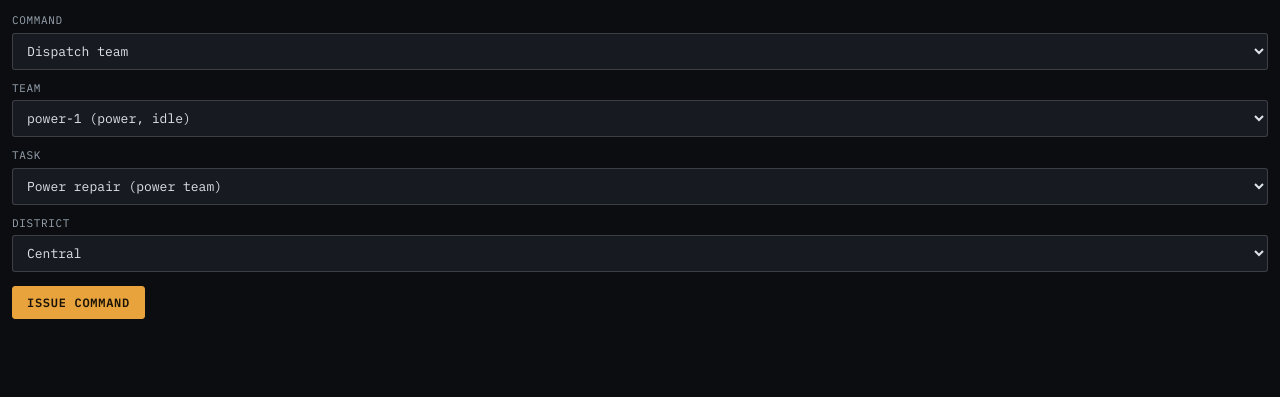
CommandComposer › blocks submission and shows a local error when advisory text is empty
This screenshot has width=1280, height=397.
Select "Issue public advisory" in the dropdown labelled "Command" at (640, 51), box 12,32 -> 1268,70
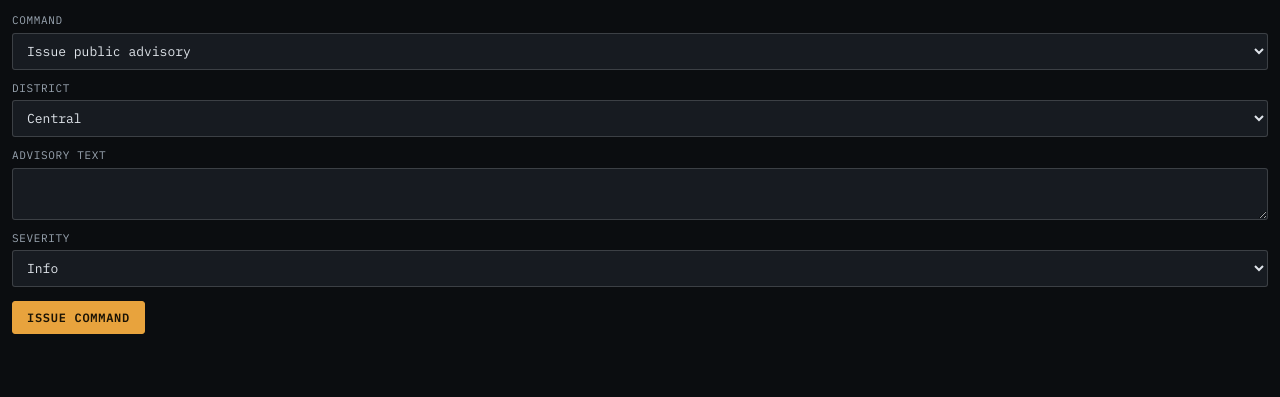
Click the button "Issue command".
click(78, 318)  # box 12,301 -> 145,334
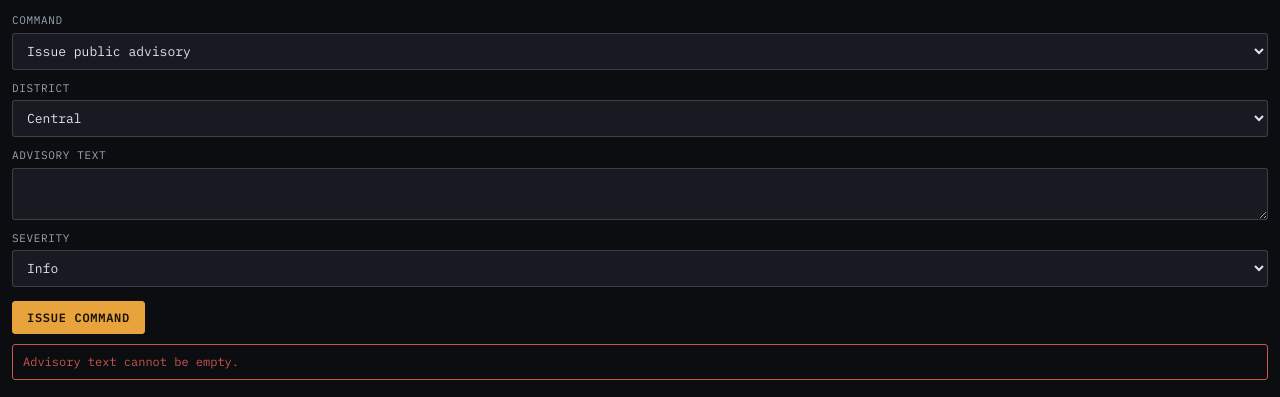
Check: the text "Advisory text cannot be empty." is shown, box 12,344 -> 1268,380
